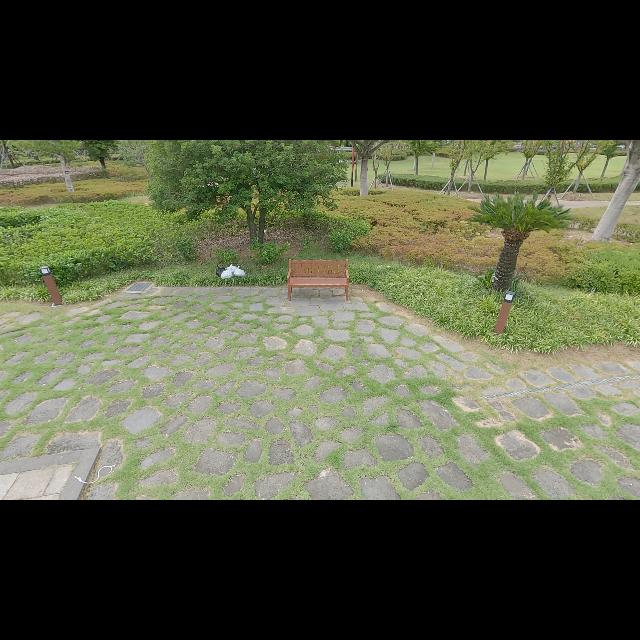trash: (219, 266, 233, 282), (232, 265, 246, 279), (214, 264, 226, 276), (226, 264, 238, 276)
